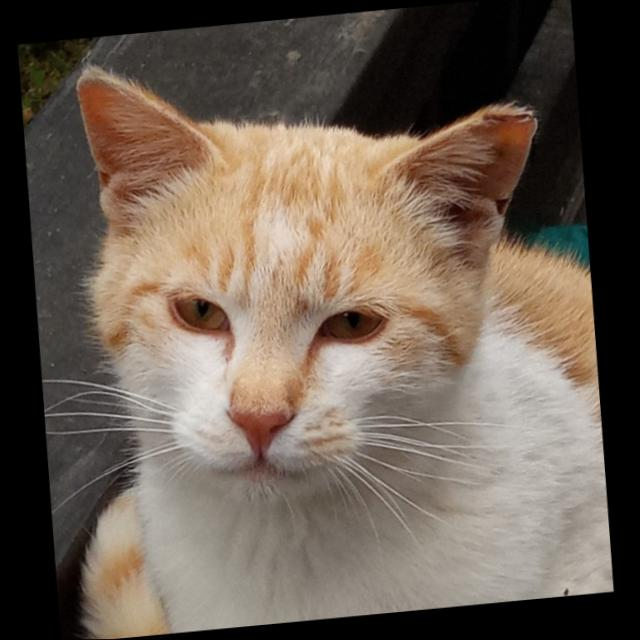animals: (45, 20, 576, 527)
